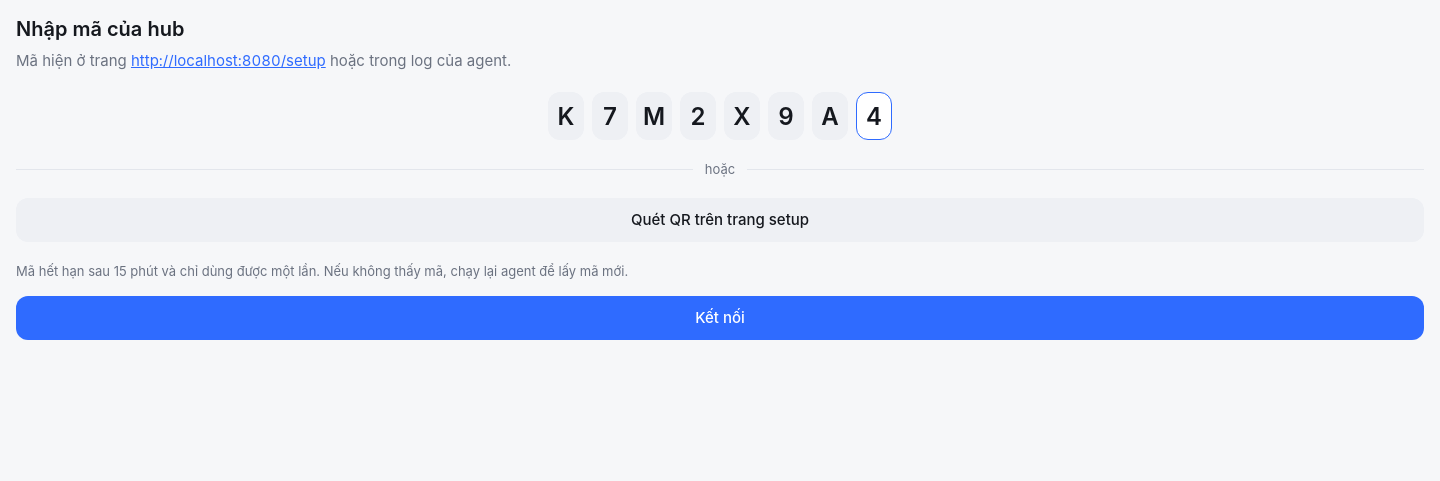
StepCode › 'Tôi đã có mã mới' clears the code
Step 1. Click the button "Kết nối" → [720, 318], box [16, 296, 1424, 340]
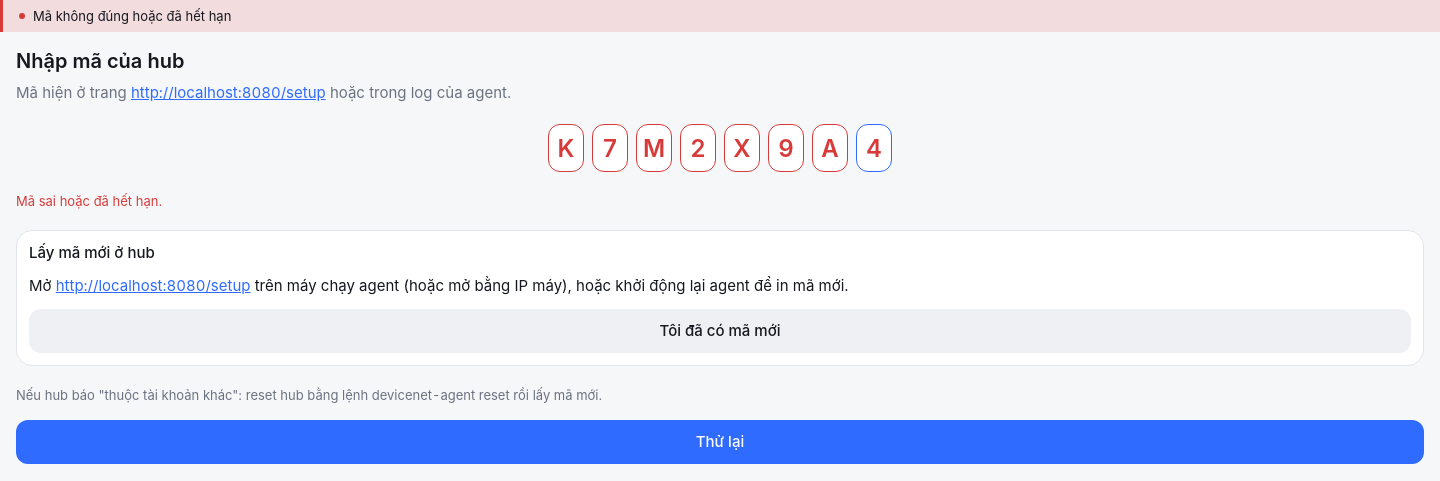
Step 2. Click the button "Tôi đã có mã mới" → [720, 331], box [29, 309, 1411, 353]
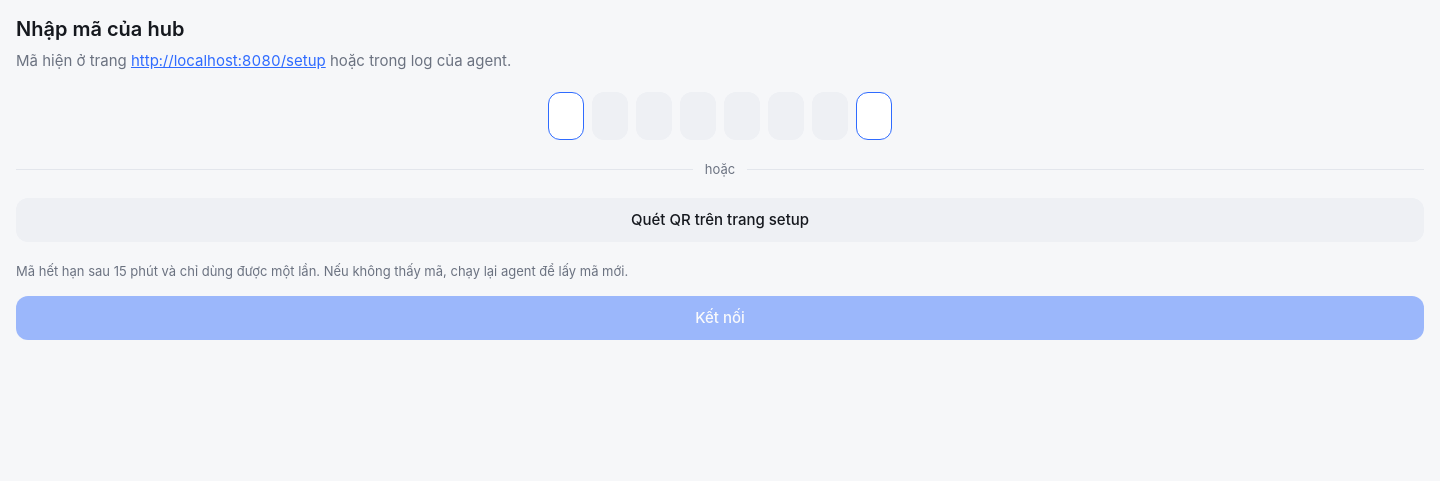
Expected: the field named "Ký tự 1" is empty, [548, 92, 584, 140]
Expected: the text "Mã không đúng hoặc đã hết hạn" is gone
